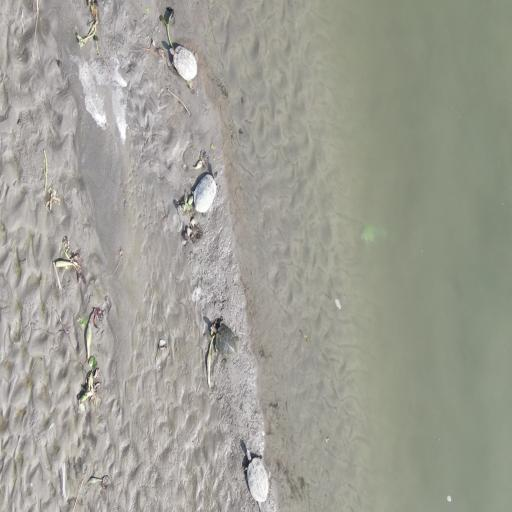turtle: (244, 448, 272, 506), (191, 166, 223, 216), (170, 43, 200, 87), (210, 317, 239, 362)
